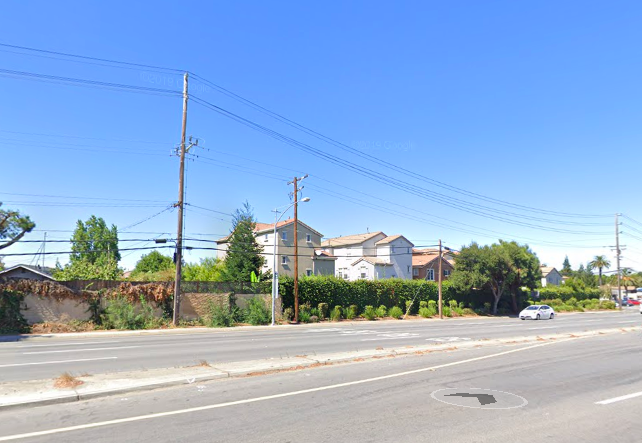tree: (449, 238, 544, 314)
utility_pole: (164, 61, 209, 173), (280, 165, 313, 211), (606, 205, 629, 244)
